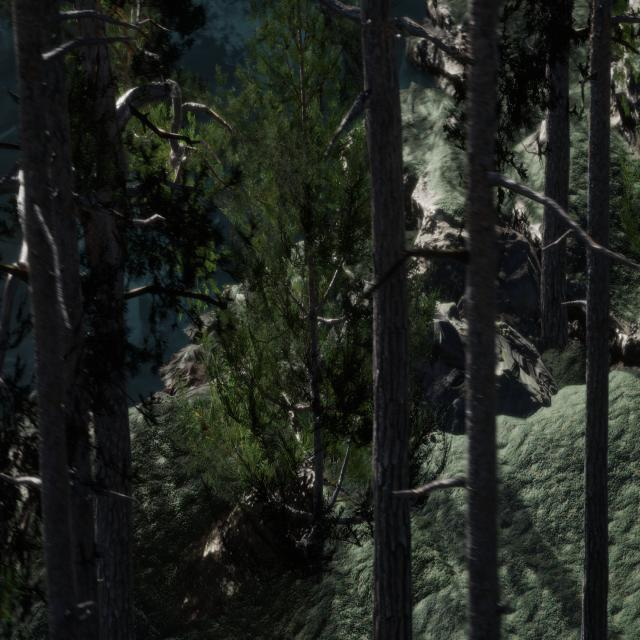Human: (290, 262, 309, 341)
